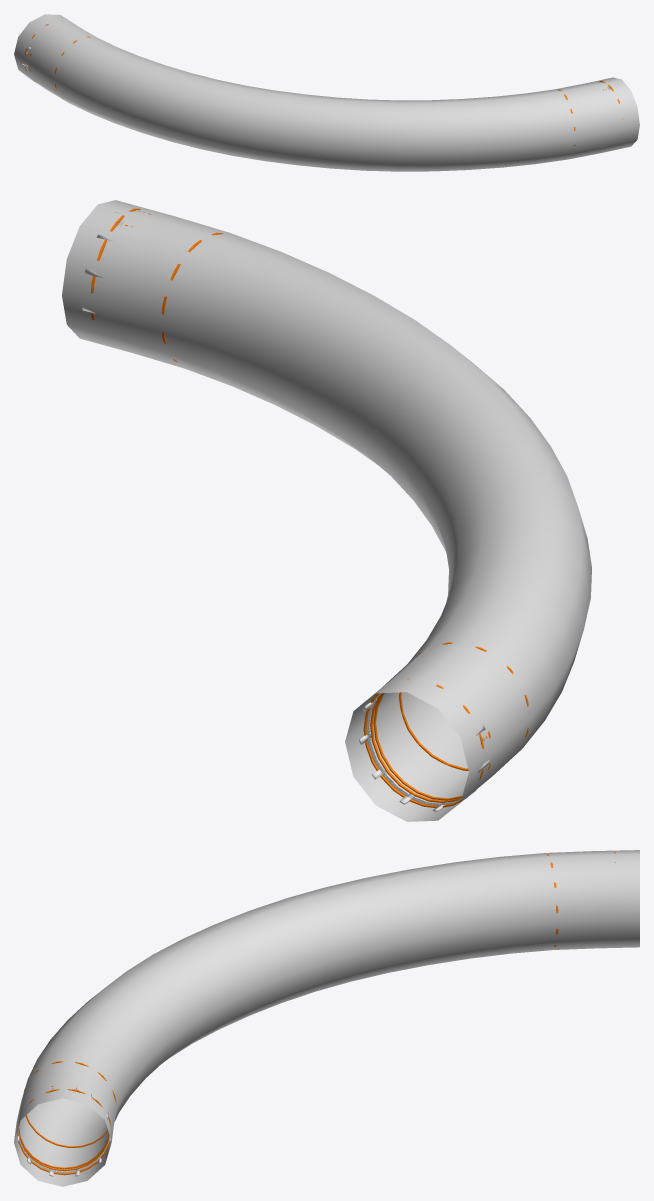
Rendered from Block_90_full.fbx.
3 views of the same model, one above another, from view 1: azimuth 30°, elevation 25°; view 2: azimuth 150°, elevation 25°; view 3: azimuth 270°, elevation 25° (orthographic). The views are drawn at different scales.
Parts seen in each view (by area): view 1: Block; view 2: Block, Orange Steps; view 3: Block, Orange Steps.2.
Part boxes in pixels (x1,y1,x2,y2): Block: (14, 14, 639, 171); Block: (62, 200, 591, 821); Orange Steps: (363, 642, 528, 807); Block: (14, 850, 639, 1186); Orange Steps.2: (17, 1061, 115, 1175).
Size of the model in its own units: 640 by 100 by 640.
